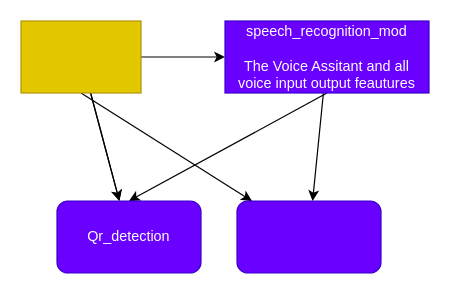
Some shapes in this 450 by 294 pixel diagram are drawn without their labels. The centre of each missing label's shape, as x and y in pixels:
"main.py detect_objects()" goes at point (80, 56).
"Text _detection" goes at point (308, 236).
